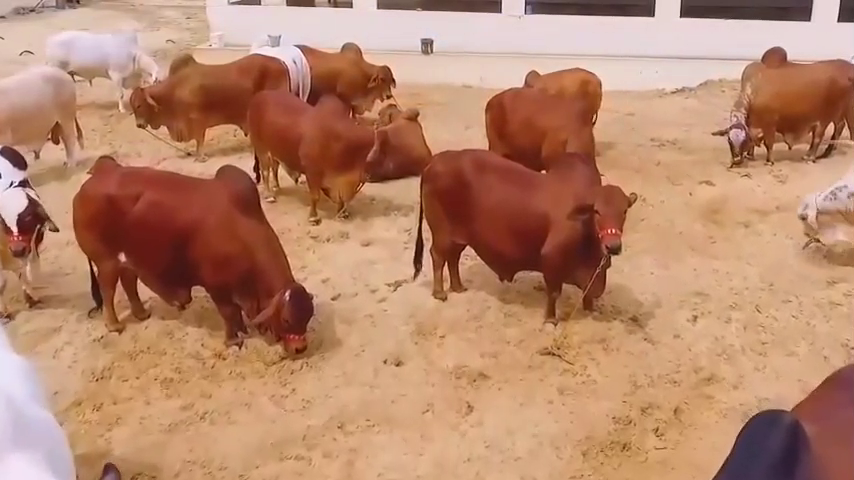bo: (68, 148, 318, 360), (397, 134, 644, 328), (237, 77, 390, 229), (707, 335, 853, 478), (125, 46, 283, 166), (4, 325, 122, 478), (716, 42, 851, 170), (36, 21, 164, 123), (472, 78, 594, 180), (3, 58, 85, 181), (1, 146, 53, 335), (518, 57, 610, 138), (303, 30, 394, 110), (789, 166, 854, 268), (360, 99, 438, 177), (252, 21, 317, 107)
